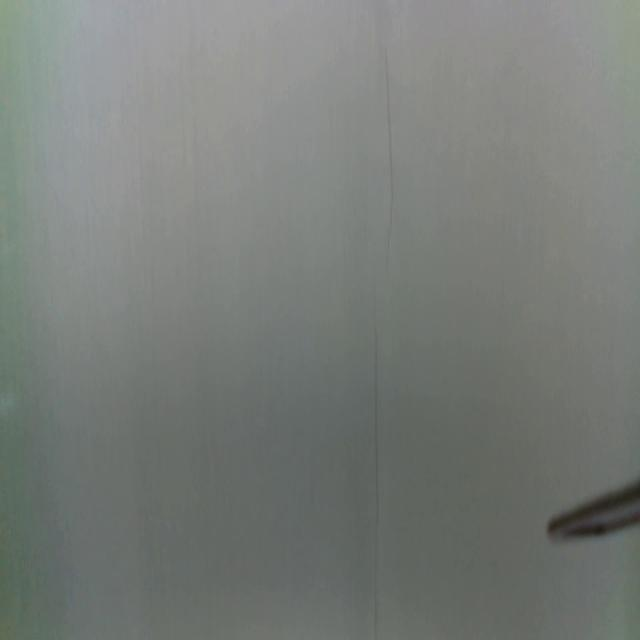crease: (370, 324, 381, 640), (383, 45, 396, 277)
